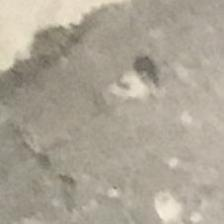Crack: (0, 0, 191, 126)
